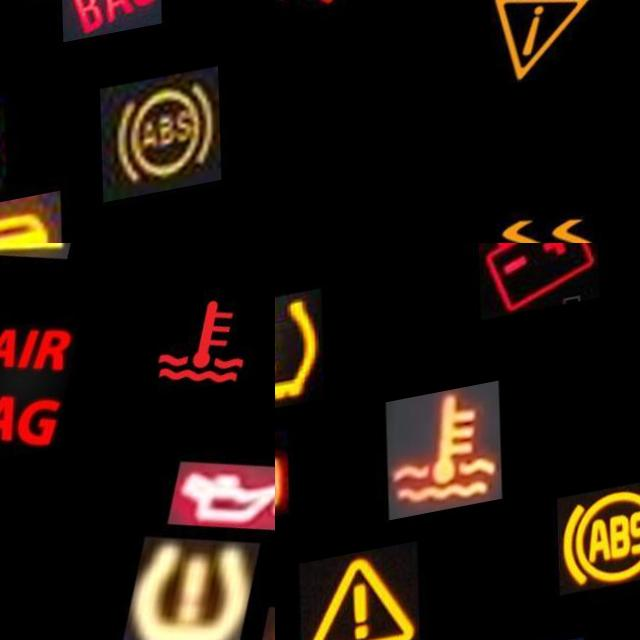Central Warning lamp: (296, 551, 417, 640), (0, 243, 89, 284)
Engine cooling system: (130, 272, 275, 437), (384, 395, 500, 530)
